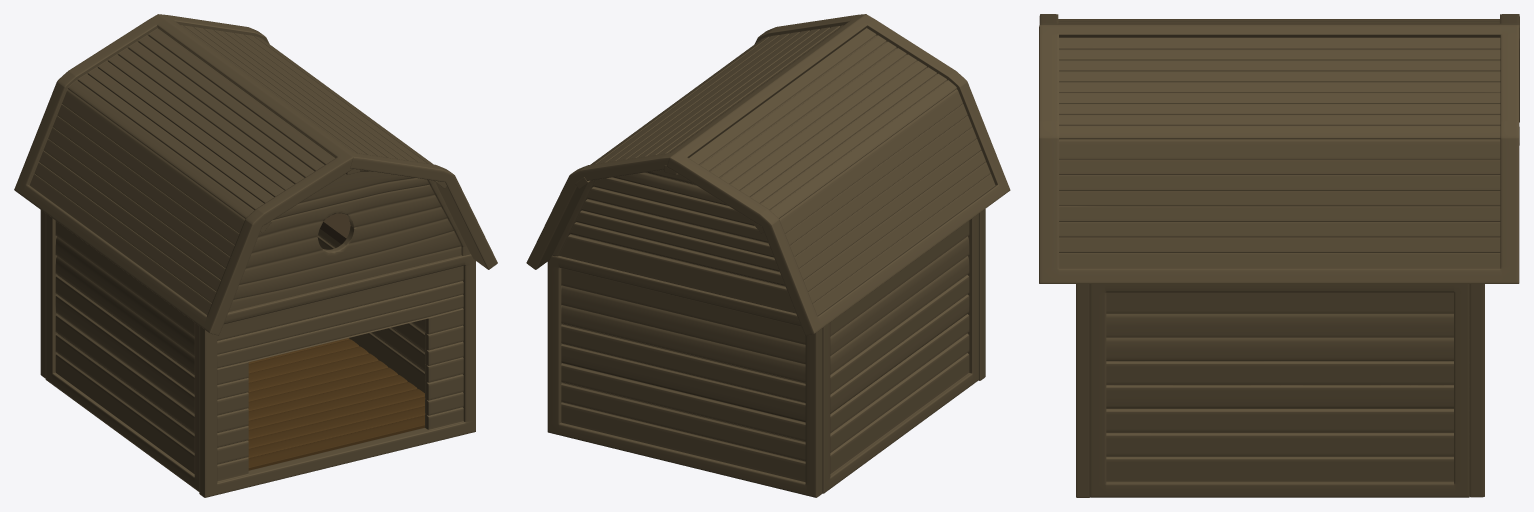
File: barn.glb
3 renders of one model, left to right at view 1: azimuth 30°, elevation 25°; view 2: azimuth 150°, elevation 25°; view 3: azimuth 270°, elevation 25°, orthographic. The views are drawn at different scales.
Visible parts, largest first — view 1: barn; view 2: barn; view 3: barn.
Part boxes in pixels (bbox=[...]): barn: bbox=[14, 14, 497, 497]; barn: bbox=[526, 14, 1010, 497]; barn: bbox=[1039, 14, 1519, 497].
Bounding box in the file's own units: 22.68 × 24 × 26.74.
